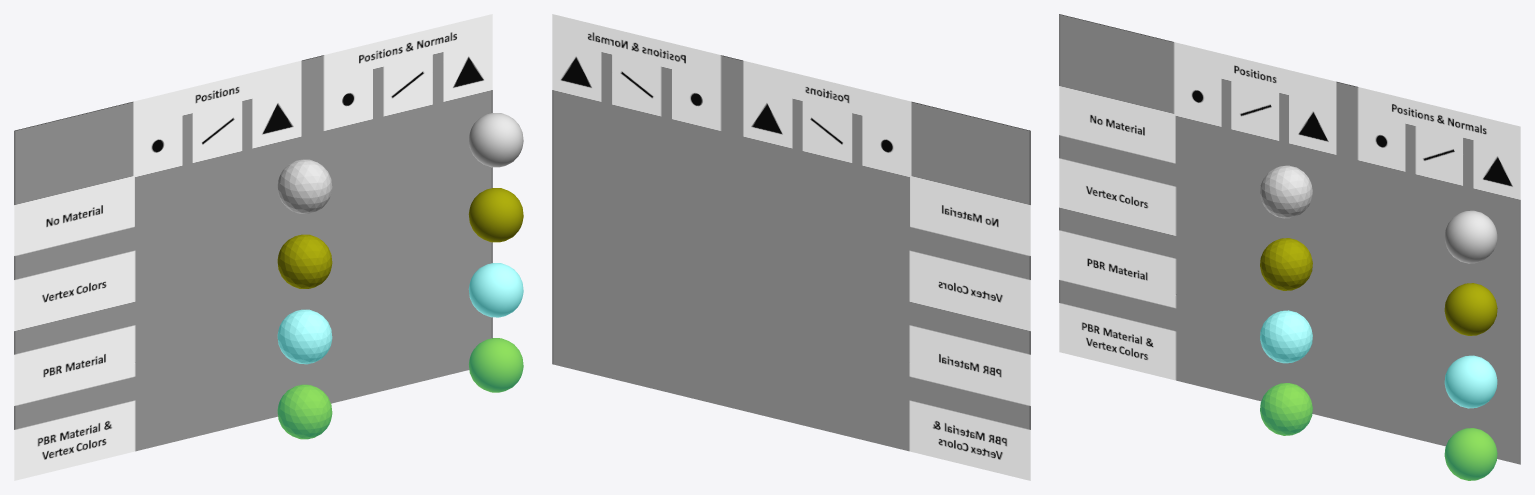
File: PrimitiveModeNormalsTest.gltf
3 views of the same model, side by side, from view 1: azimuth 30°, elevation 25°; view 2: azimuth 150°, elevation 25°; view 3: azimuth 330°, elevation 25° (orthographic). The views are drawn at different scales.
Bounding box in the file's own units: 20 × 14 × 3.
Materials: 2 (1 with a texture image).
